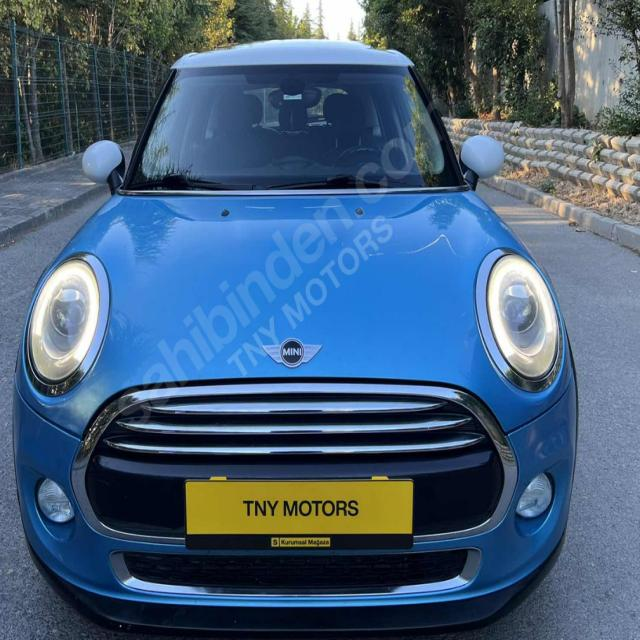mini: (251, 334, 335, 374)
